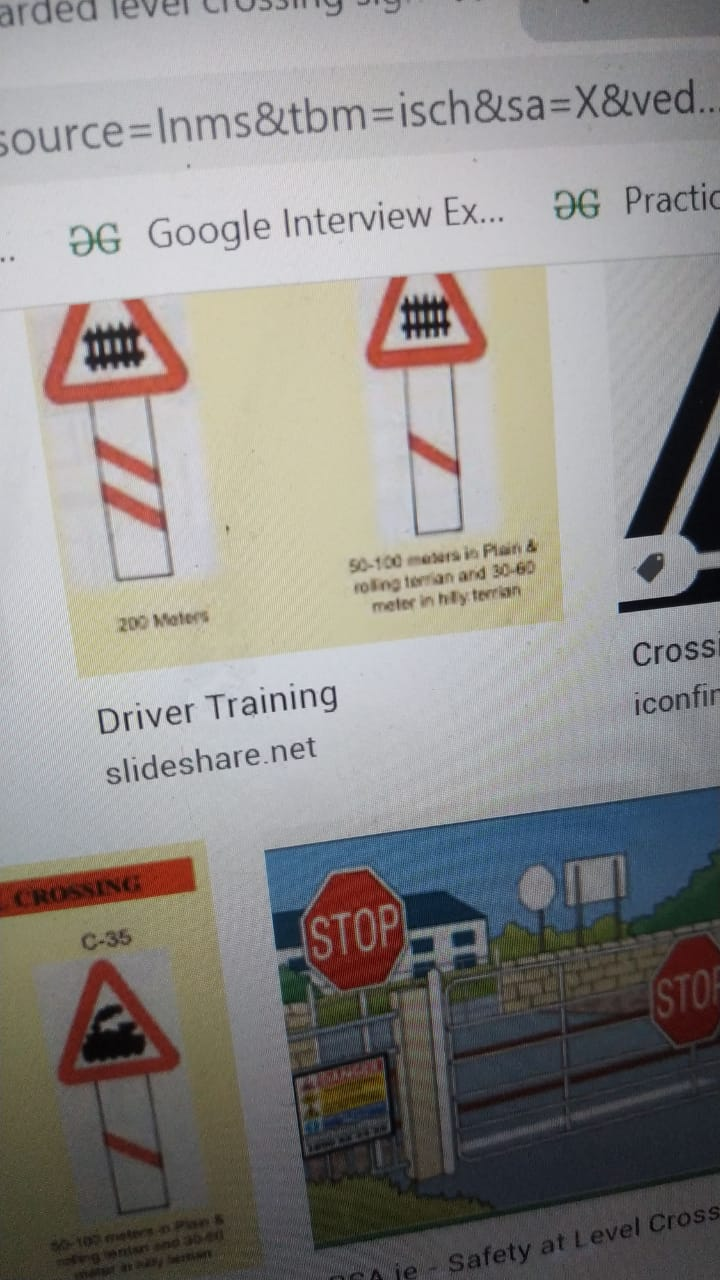GUARDED LEVEL CROSSING: (25, 287, 227, 407), (344, 261, 517, 387)
